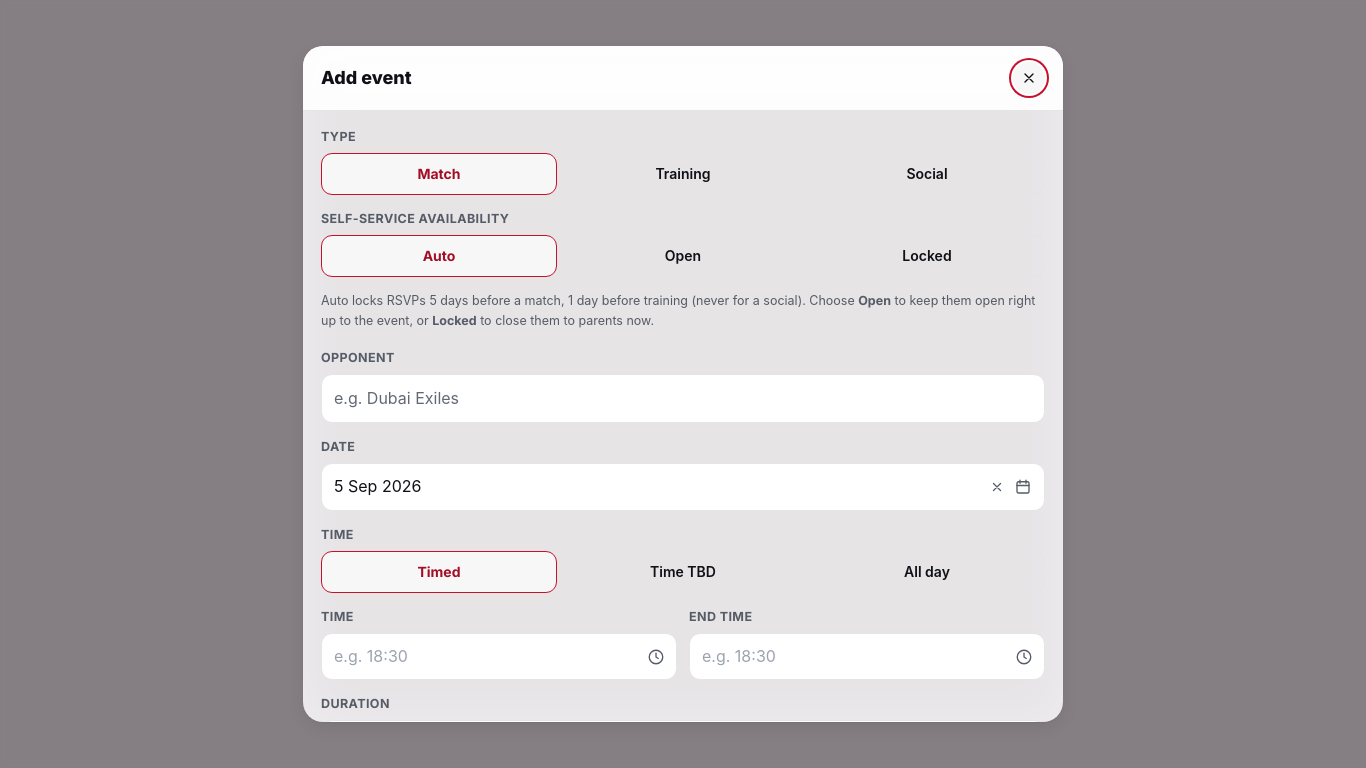
Test case: EventForm — U6 and U7 record no score › U9/U10 keep their scores too
Click the radio button labelled "Match": x=439, y=174 [321,153,557,195]
(page scrolled)
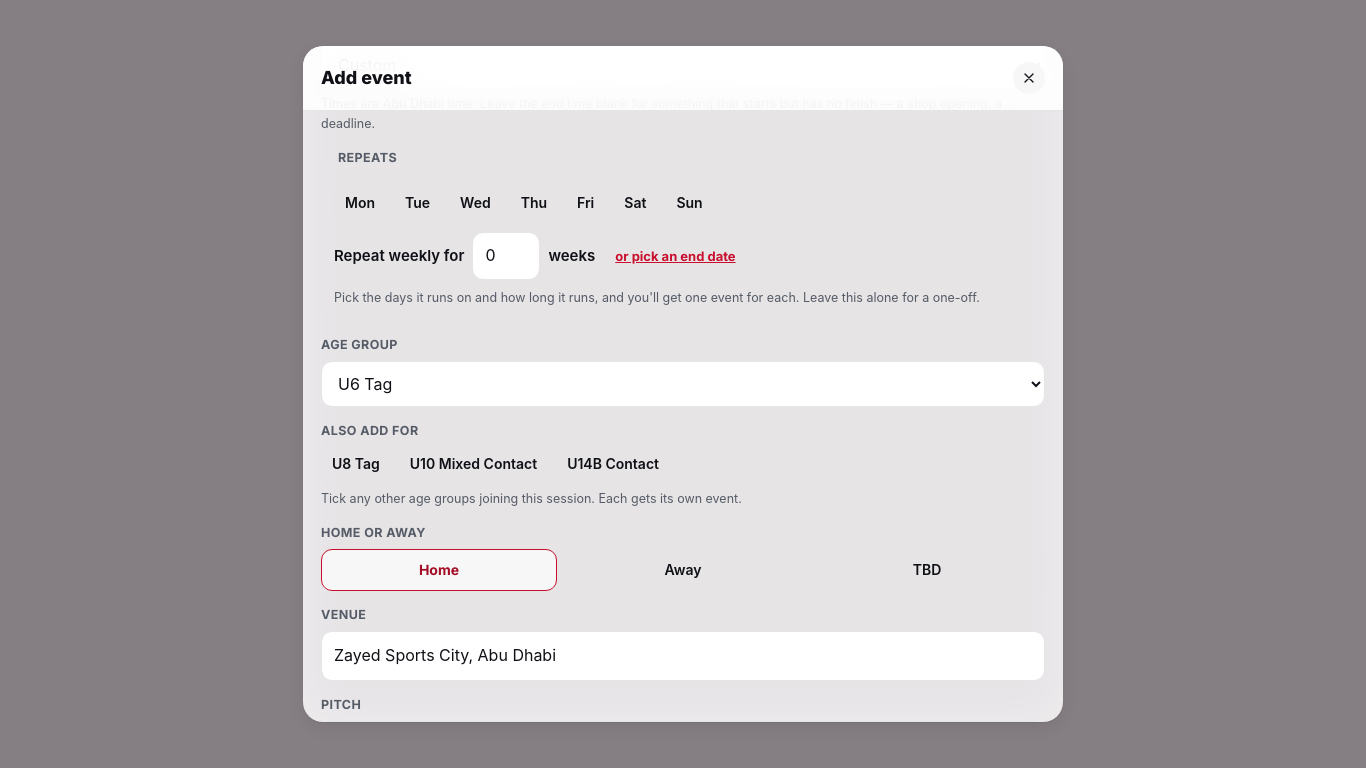
Select "U10 Mixed Contact" in the dropdown labelled "Age group": x=683, y=384 [321,361,1045,407]
(page scrolled)
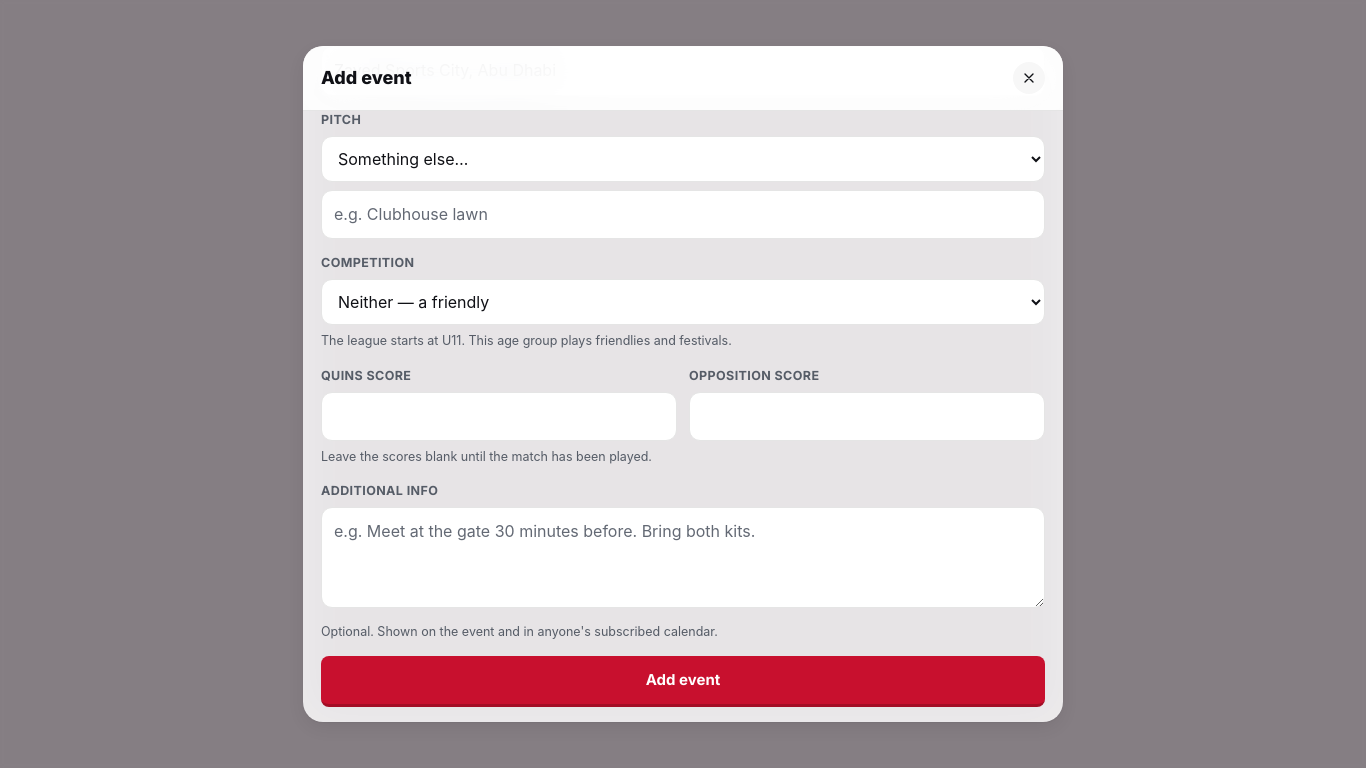
Now the number field labelled "Quins score" is shown, box [321,392,677,441]
